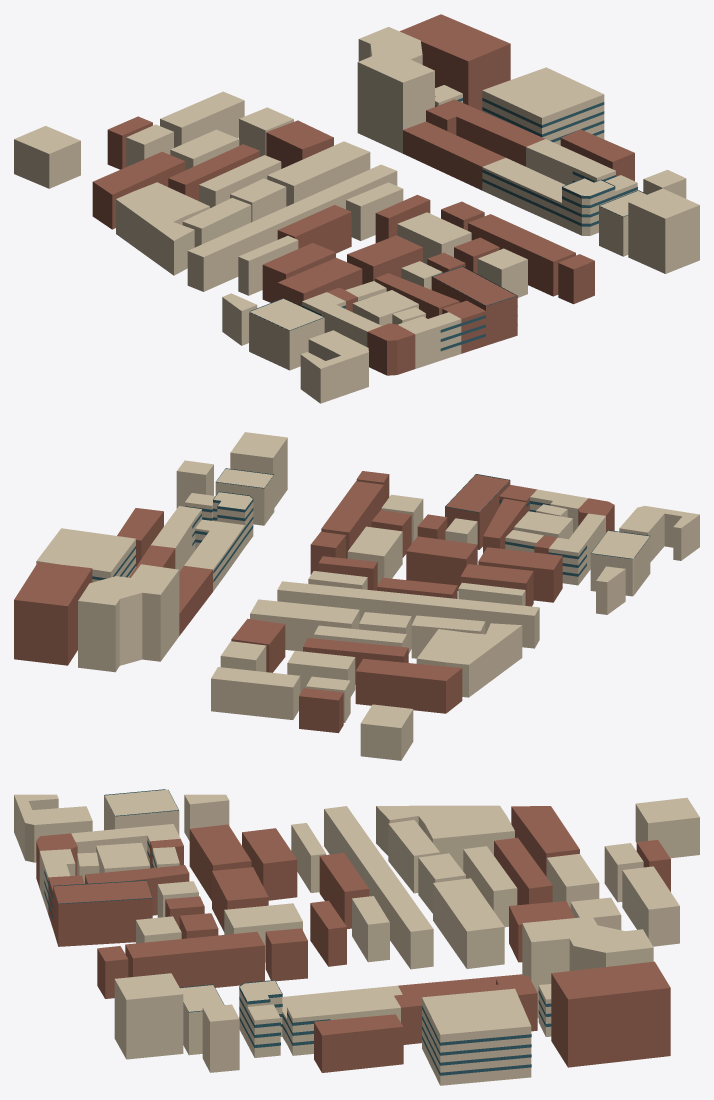
Rendered from city_-4_-2.glb.
The picture shows the model from 3 angles, top to bottom: view 1: azimuth 30°, elevation 25°; view 2: azimuth 150°, elevation 25°; view 3: azimuth 270°, elevation 25°; orthographic projection. The views are drawn at different scales.
Parts seen in each view (by area): view 1: city_-4_-2; view 2: city_-4_-2; view 3: city_-4_-2.
Part boxes in pixels (x1,y1,x2,y2): city_-4_-2: [14, 14, 699, 403]; city_-4_-2: [14, 432, 699, 760]; city_-4_-2: [14, 789, 699, 1085].
Bounding box in the file's own units: 217 × 30.6 × 248.
